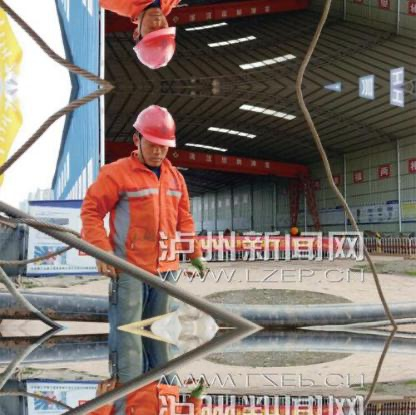Safety Helmet: (128, 2, 182, 73), (129, 100, 180, 174)
